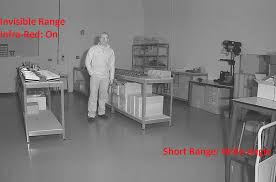person: (81, 23, 121, 128)
